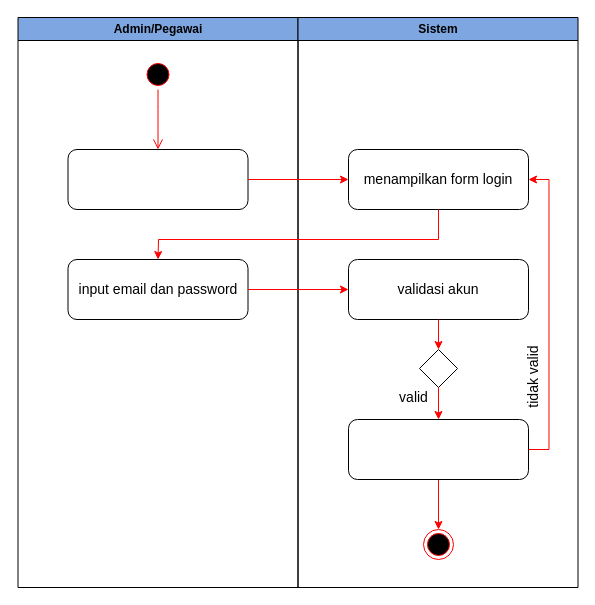
This 595x605 diagram has some shape labels left out. Here are the shapes that lost their labels. From the top down, the centre of each, then its label:
At (x=157, y=179): "klik button login pada hompage".
At (x=438, y=449): "menampilkan halaman dashboard".
